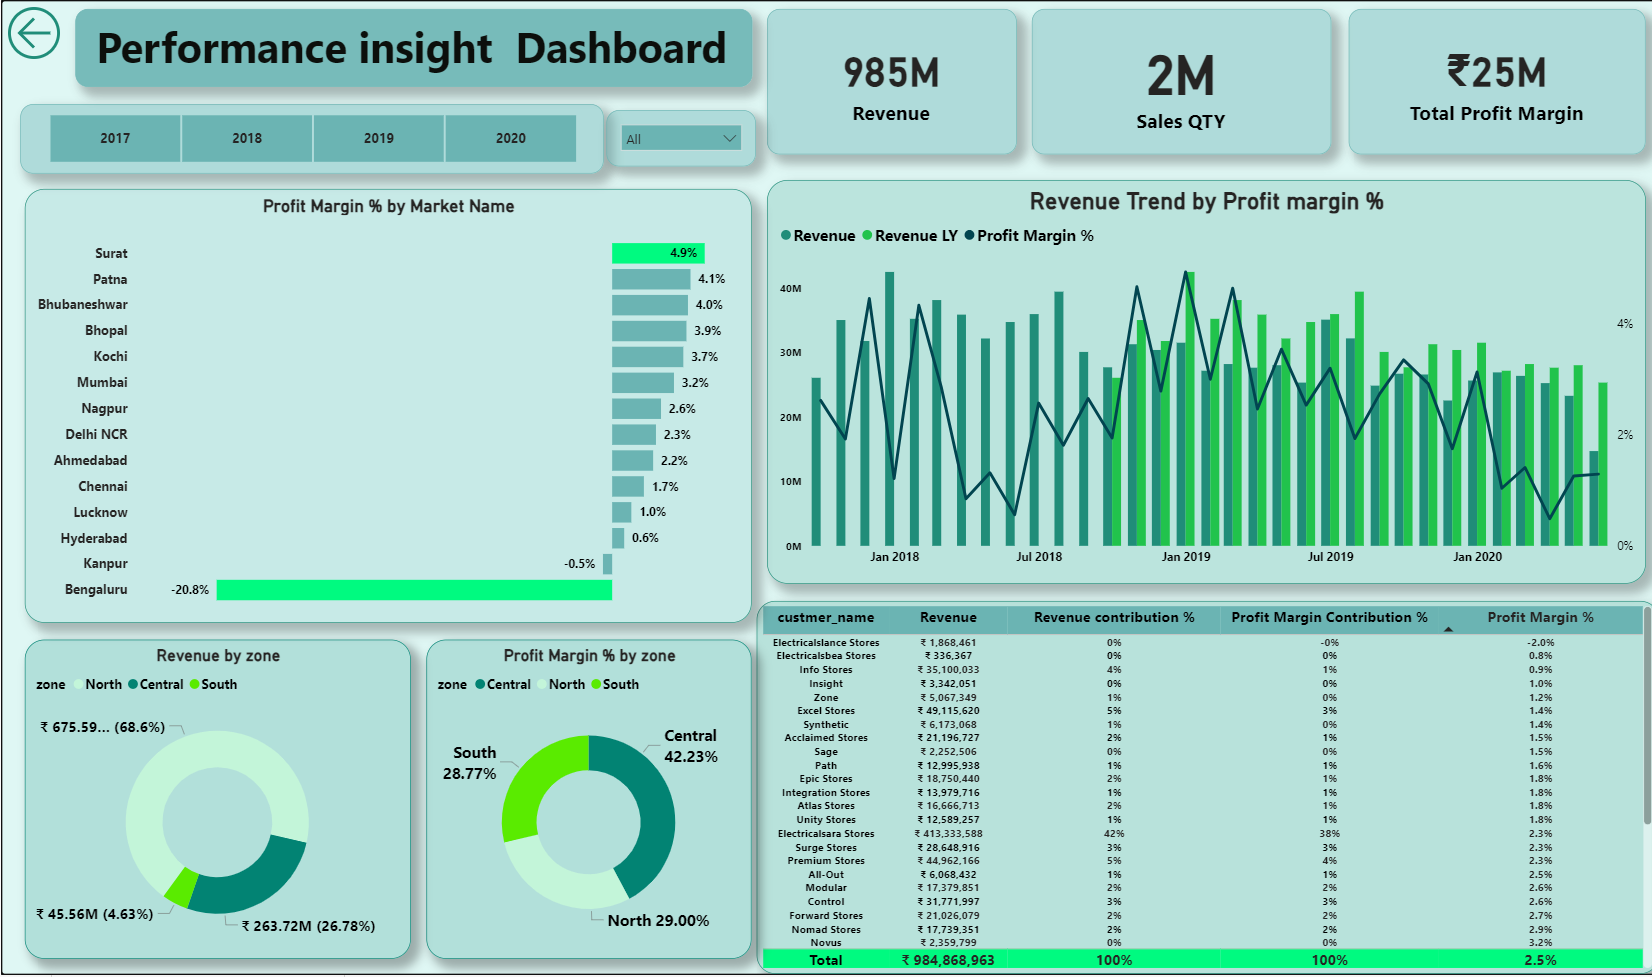

This screenshot's page, from the dashboard's own definition file:
{"tool":"powerbi","page":{"name":"Performance insights","canvas":[1700,1000],"ordinal":3},"visuals":[{"type":"card","fields":{"Values":["Basemeasure.Revenue"]},"box":[785.5,8.9,255.9,149.1],"z":0,"group":"g1"},{"type":"card","fields":{"Values":["Basemeasure.Sales QTY"]},"box":[1057,8.9,307.1,149.1],"z":1000,"group":"g1"},{"type":"slicer","title":"Profit Margin % by Market Name","fields":{"Values":["sales date.year"]},"box":[20,106.8,598.5,71.2],"z":2000,"group":"g1"},{"type":"slicer","fields":{"Values":["sales date.cy_date"]},"box":[620.8,113.5,153.5,57.8],"z":3000,"group":"g1"},{"type":"clusteredBarChart","title":"Profit Margin %  by Market Name","fields":{"Category":["sales markets.State"],"Y":["Basemeasure.Profit Margin %"]},"box":[24.5,193.6,745.4,445],"z":4000,"group":"g1"},{"type":"tableEx","fields":{"Values":["sales customers.custmer_name","Basemeasure.Revenue","Basemeasure.Revenue contribution %","Basemeasure.Profit Margin Contribution %","Basemeasure.Profit Margin %"]},"box":[774.4,616.4,925.7,382.7],"z":5000},{"type":"card","fields":{"Values":["Basemeasure.Total Profit Margin"]},"box":[1381.8,8.9,304.8,149.1],"z":6000,"group":"g1"},{"type":"lineClusteredColumnComboChart","title":"  Revenue Trend by Profit margin %","fields":{"Category":["sales date.cy_date"],"Y":["Basemeasure.Revenue","Basemeasure.Revenue LY"],"Y2":["Basemeasure.Profit Margin %"]},"box":[785.5,184.7,901.2,413.9],"z":7000,"group":"g1"},{"type":"textbox","box":[75.7,8.9,694.2,80.1],"z":8000,"group":"g1"},{"type":"actionButton","box":[0,0,99.8,67.6],"z":9000,"group":"g1"},{"type":"pieChart","fields":{"Category":["sales markets.zone"],"Y":["Basemeasure.Profit Margin %"]},"box":[436.1,656.4,333.8,327.1],"z":10000,"group":"g1"},{"type":"pieChart","fields":{"Category":["sales markets.zone"],"Y":["Basemeasure.Revenue"]},"box":[24.5,656.4,396.1,327.1],"z":11000,"group":"g1"},{"type":"group","id":"g1","title":"Group 1","box":[0,0,1686.7,983.5],"z":11001}]}

Visuals, with their boxes in screenshot pixels (x1, y1, x2, y2), scaled from the page's 1700x1000 canvas onto the 1652x977 screenshot:
card - Basemeasure.Revenue: [763,9,1012,154]
card - Basemeasure.Sales QTY: [1027,9,1326,154]
"Profit Margin % by Market Name" slicer: [19,104,601,174]
slicer - sales date.cy_date: [603,111,752,167]
"Profit Margin %  by Market Name" clusteredBarChart: [24,189,748,624]
tableEx - sales customers.custmer_name x Basemeasure.Revenue: [753,602,1651,976]
card - Basemeasure.Total Profit Margin: [1343,9,1639,154]
"  Revenue Trend by Profit margin %" lineClusteredColumnComboChart: [763,180,1639,585]
textbox: [74,9,748,87]
actionButton: [0,0,97,66]
pieChart - sales markets.zone x Basemeasure.Profit Margin %: [424,641,748,961]
pieChart - sales markets.zone x Basemeasure.Revenue: [24,641,409,961]
"Group 1" group: [0,0,1639,961]
